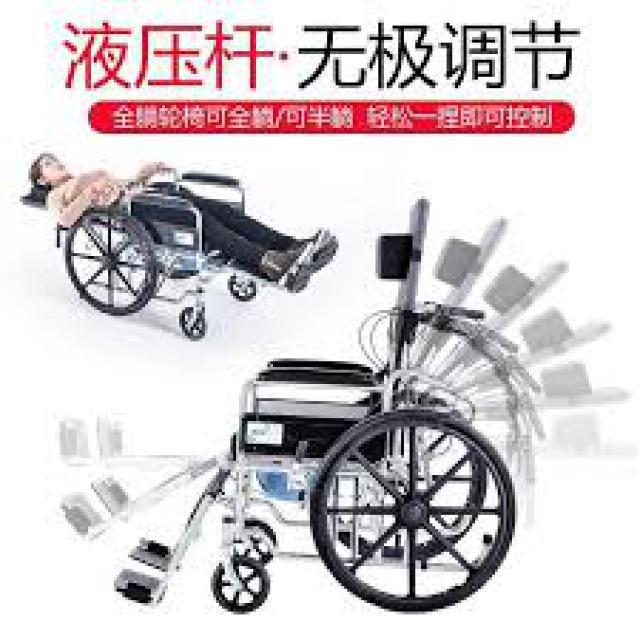wheelchair: (117, 196, 514, 637)
